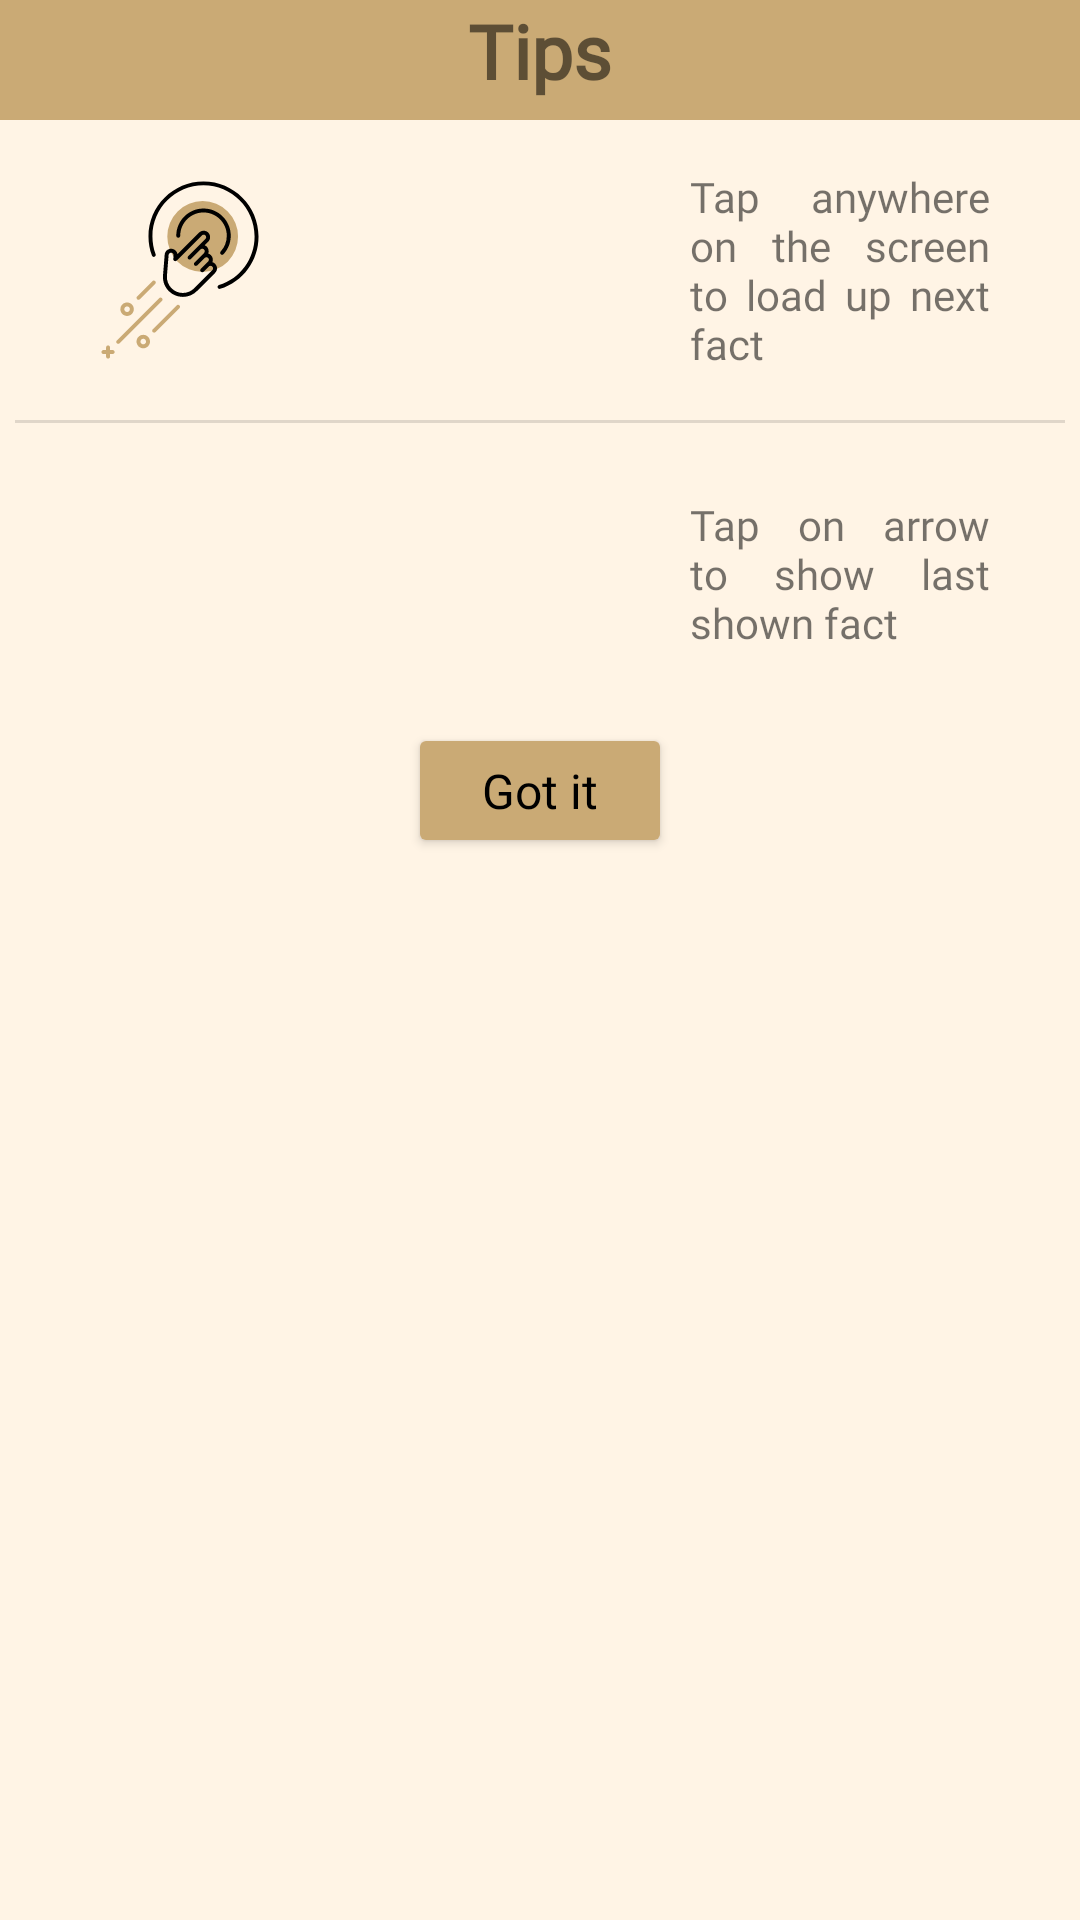

Locate icon controls on the screen. Image size 1080x1920, boxes as (x1, y1, x2, y2).
touch target: (101, 181, 259, 359)
